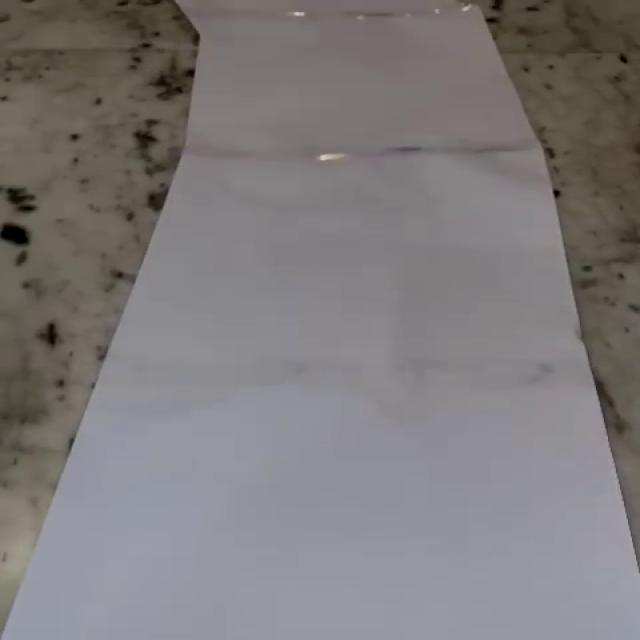road: (3, 0, 637, 640)
